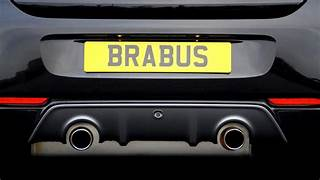number_plate: (84, 41, 230, 72)
